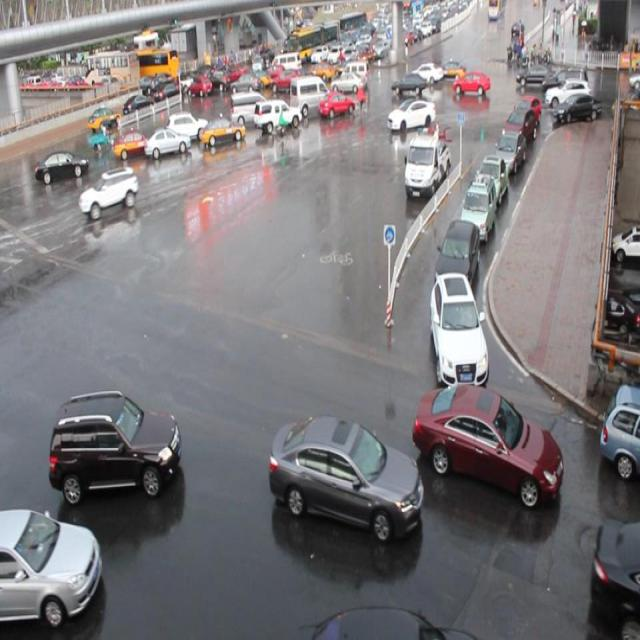bus: (403, 131, 451, 198)
car: (269, 414, 422, 538), (413, 382, 565, 504), (48, 389, 182, 500), (1, 505, 102, 624), (430, 268, 488, 384), (589, 513, 640, 640), (598, 381, 640, 471), (436, 213, 481, 292), (79, 166, 140, 216), (460, 173, 498, 242), (473, 150, 509, 208), (36, 146, 89, 184), (252, 96, 302, 133), (199, 112, 247, 150), (387, 97, 435, 132), (144, 126, 192, 160), (166, 108, 209, 144), (495, 124, 527, 170), (507, 106, 539, 150), (113, 129, 153, 158), (318, 90, 355, 117), (517, 94, 543, 132)
truck: (288, 75, 332, 115), (228, 90, 271, 128)
